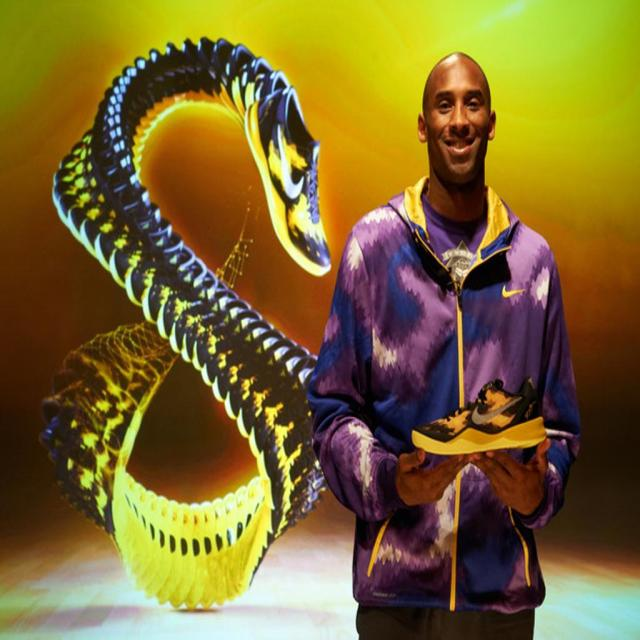nomask: (425, 61, 489, 182)
